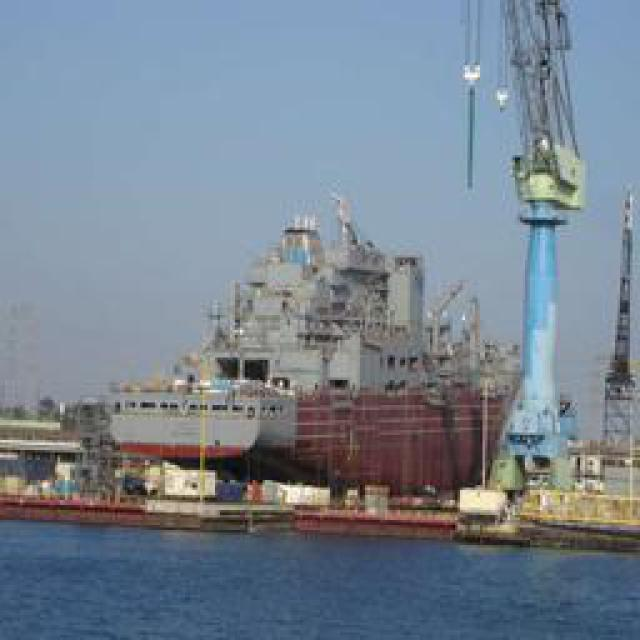Ship: (112, 198, 502, 506)
